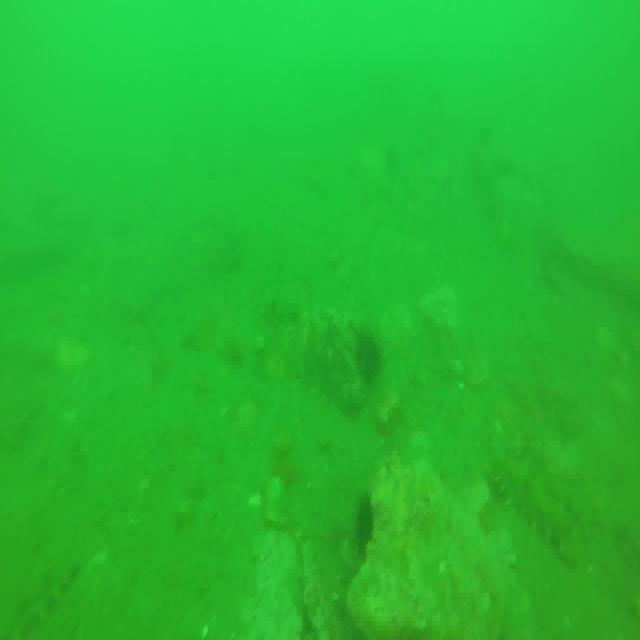echinus: (354, 500, 384, 558), (354, 328, 383, 385)
holothurian: (489, 454, 573, 552), (0, 558, 79, 640)
